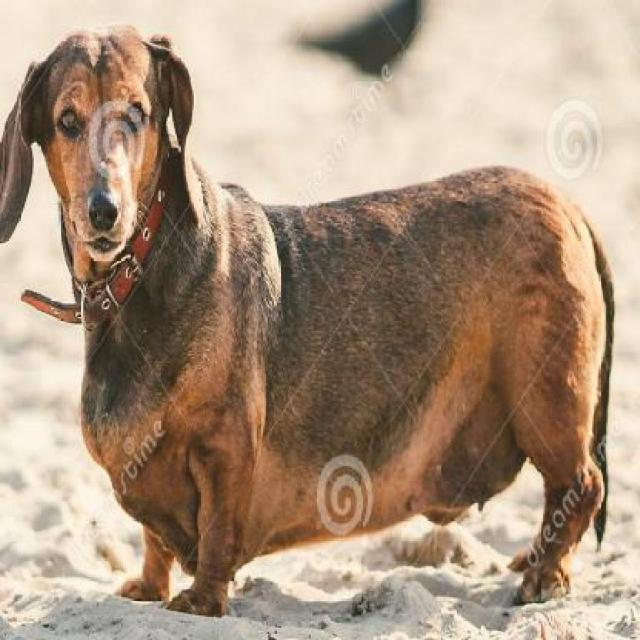Dog: (0, 22, 622, 629)
